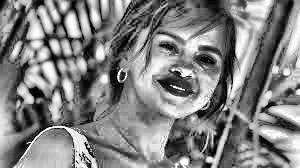happy: (137, 6, 232, 132)
